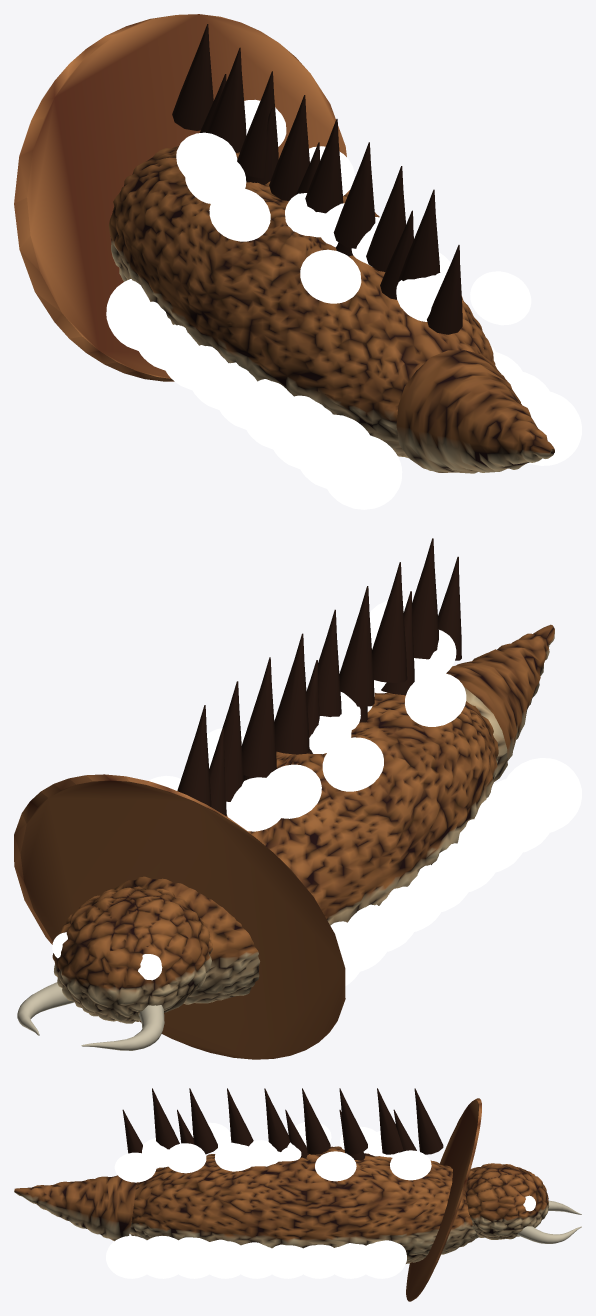
File: ruuvak_titan.glb
3 views of the same model, one above another, from view 1: azimuth 30°, elevation 25°; view 2: azimuth 150°, elevation 25°; view 3: azimuth 270°, elevation 25° (orthographic). The views are drawn at different scales.
Visible parts, largest first — view 1: ruuvak_titan.001; view 2: ruuvak_titan.001; view 3: ruuvak_titan.001.
Part boxes in pixels (<box>): ruuvak_titan.001: <box>14,14,581,509</box>; ruuvak_titan.001: <box>14,538,581,1059</box>; ruuvak_titan.001: <box>14,1088,581,1301</box>.
Bounding box in the file's own units: 3.87 × 3.94 × 10.
